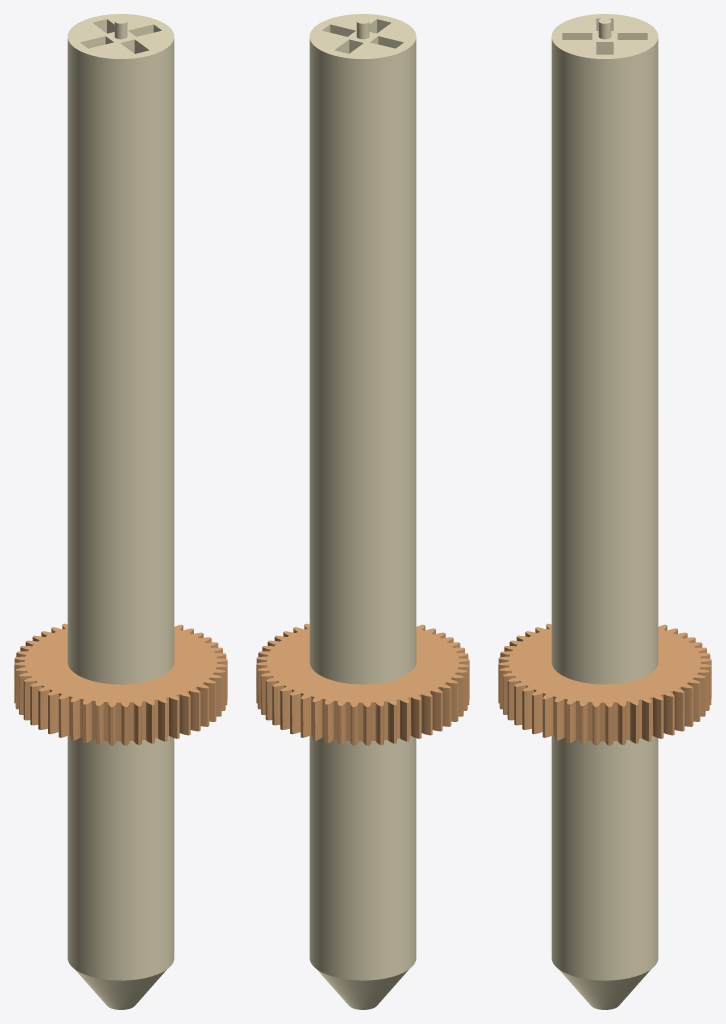
The picture shows the model from 3 angles, left to right: view 1: azimuth 30°, elevation 25°; view 2: azimuth 150°, elevation 25°; view 3: azimuth 270°, elevation 25°; orthographic projection.
Bounding box in the file's own units: 0.05 × 0.254 × 0.05.
